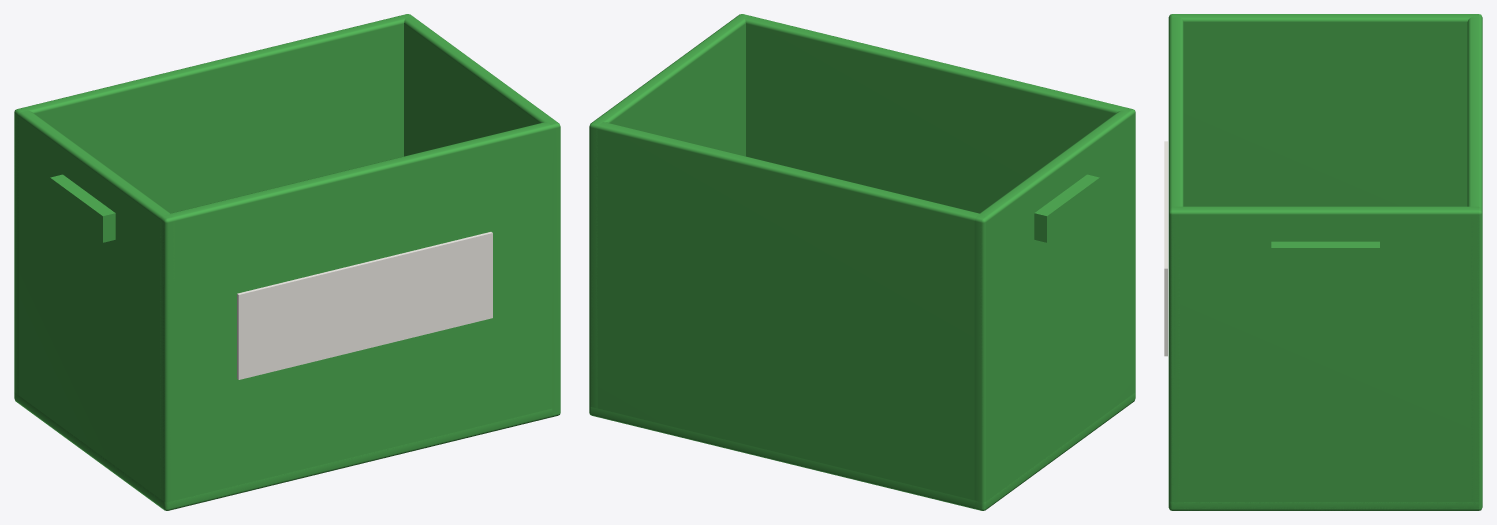
The model's file is JunkBin.fbx.
3 views of the same model, side by side, from view 1: azimuth 30°, elevation 25°; view 2: azimuth 150°, elevation 25°; view 3: azimuth 270°, elevation 25° (orthographic). The views are drawn at different scales.
Parts seen in each view (by area): view 1: JunkBinBody; view 2: JunkBinBody; view 3: JunkBinBody.
Boxes of the visible parts, x1,y1,x2,y2 form: JunkBinBody: (14, 14, 560, 510); JunkBinBody: (589, 14, 1135, 510); JunkBinBody: (1164, 14, 1482, 510).
Bounding box in the file's own units: 0.83 × 0.55 × 0.527.
